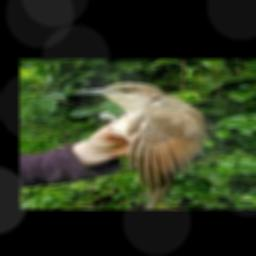Cuckoo: (74, 82, 207, 208)
